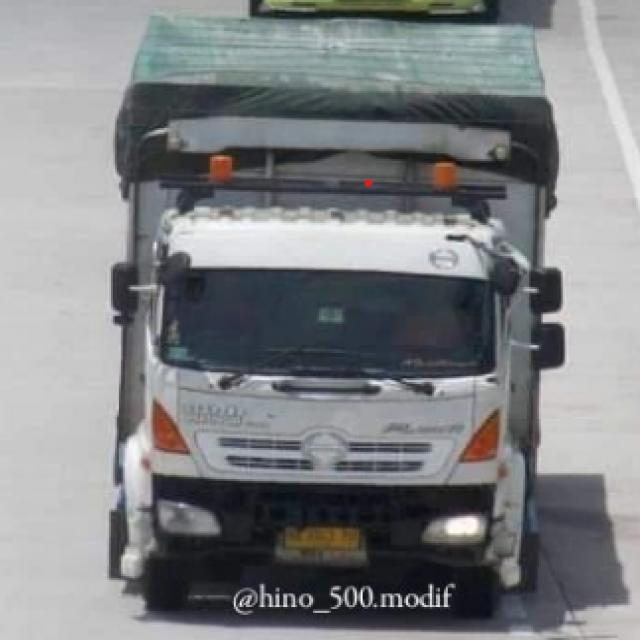Truck: (90, 9, 564, 617)
